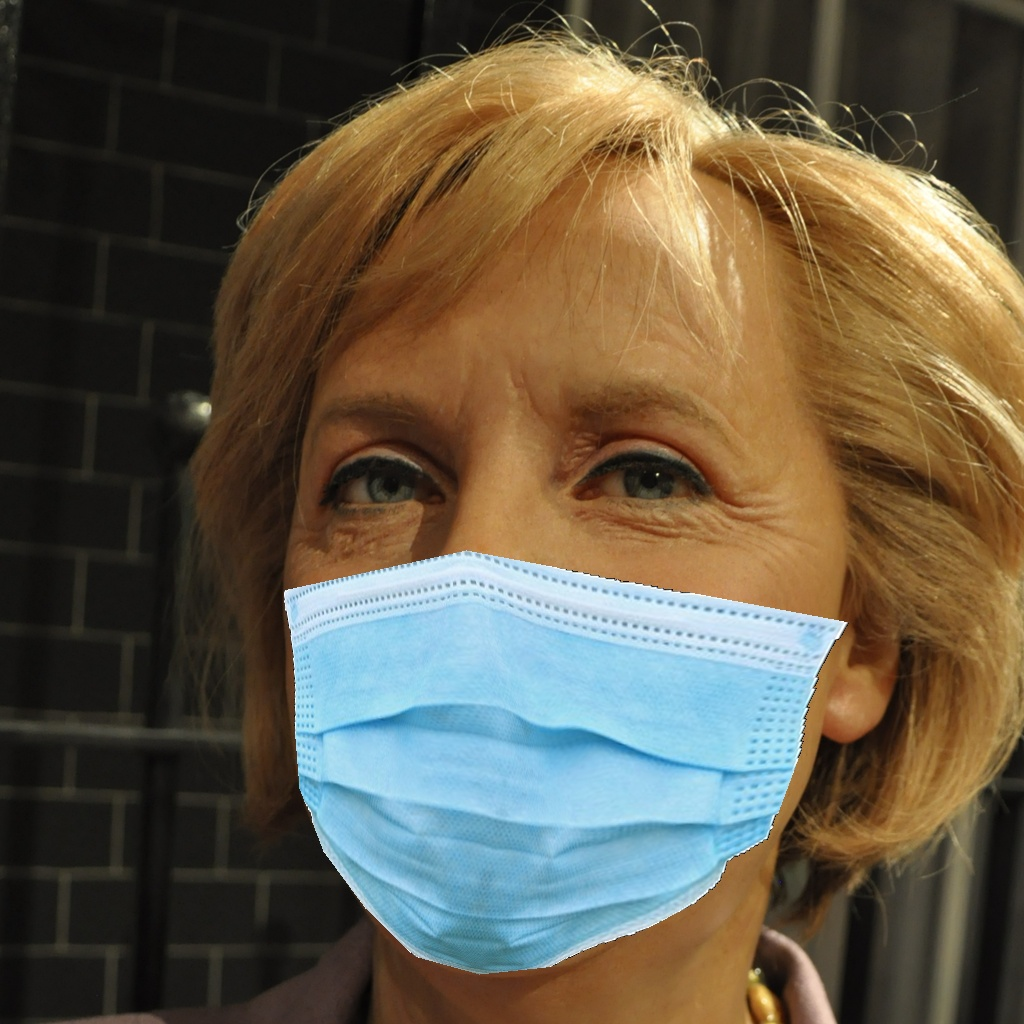Mask: (264, 344, 862, 982)
